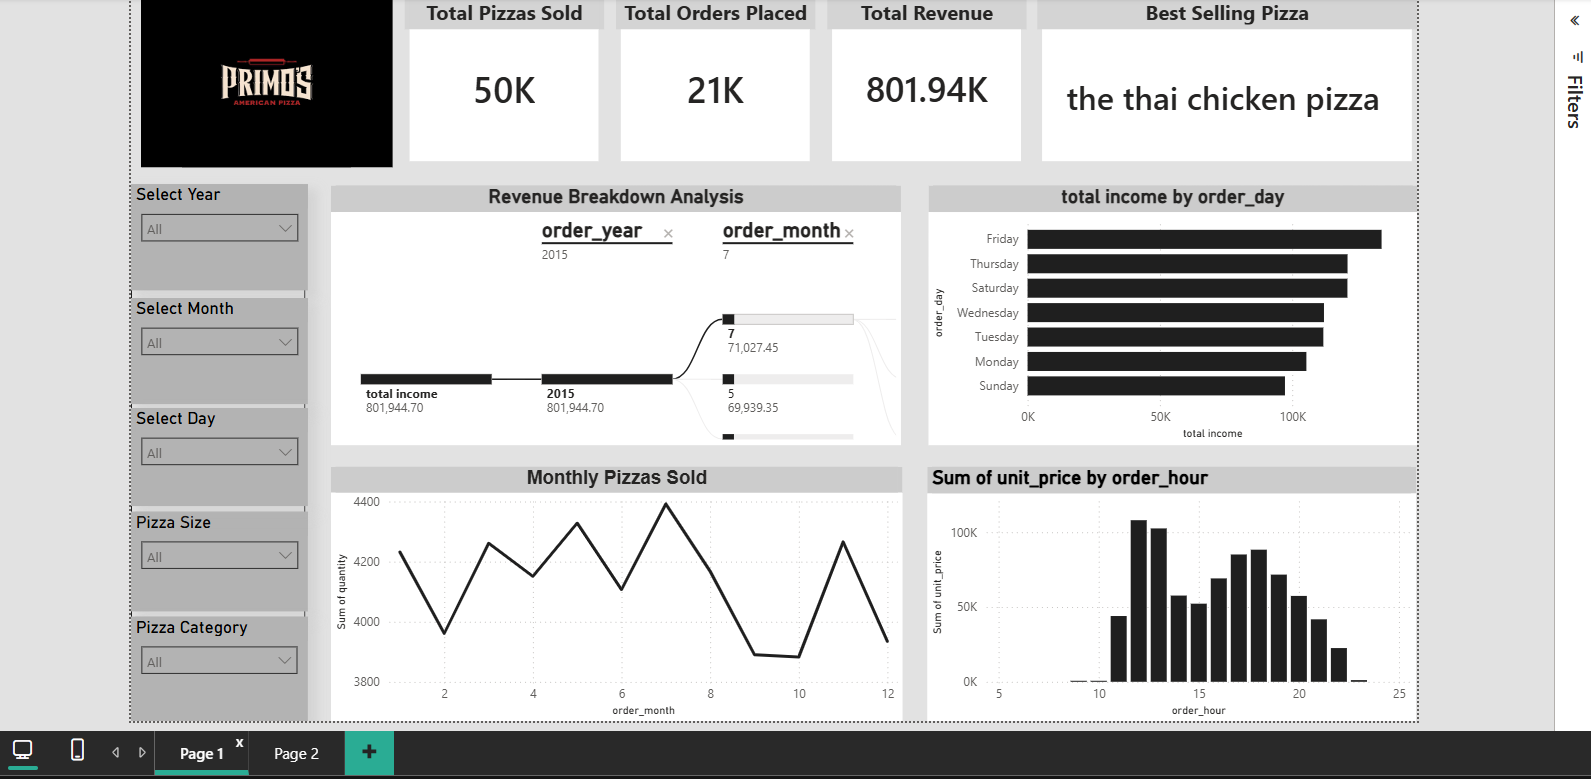

The dashboard page shown, as its layout file describes it:
{"tool":"powerbi","page":{"name":"Time-Based Sales Analysis","canvas":[1280,720],"ordinal":0},"visuals":[{"type":"cardVisual","title":"Best Selling Pizza","fields":{"Data":["pizza_sales.top pizza sales"]},"box":[901.4,0,378.4,167.6],"z":0},{"type":"cardVisual","title":"Total Pizzas Sold","fields":{"Data":["pizza_sales.total quantity"]},"box":[273,0,198.6,167.6],"z":1000},{"type":"cardVisual","title":"Total Orders Placed","fields":{"Data":["pizza_sales.total orders"]},"box":[482.4,0,198.6,167.6],"z":2000},{"type":"cardVisual","title":"Total Revenue","fields":{"Data":["pizza_sales.total income"]},"box":[693.2,0,198.6,167.6],"z":3000},{"type":"shape","box":[0,205,173.4,515.6],"z":4000},{"type":"slicer","title":"Select Year","fields":{"Values":["pizza_sales.order_year"]},"box":[0,185.4,176.4,105.5],"z":5000},{"type":"slicer","title":"Pizza Size","fields":{"Values":["pizza_sales.pizza_size"]},"box":[0,511.1,176.4,99.5],"z":6000},{"type":"slicer","title":"Select Month","fields":{"Values":["pizza_sales.order_month"]},"box":[0,298.5,176.4,105.5],"z":7000},{"type":"slicer","title":"Select Day","fields":{"Values":["pizza_sales.order_day"]},"box":[0,408.6,176.4,98],"z":8000},{"type":"slicer","title":"Pizza Category","fields":{"Values":["pizza_sales.pizza_category"]},"box":[0,616.2,175.7,104.1],"z":9000},{"type":"decompositionTreeVisual","title":"Revenue Breakdown Analysis","fields":{"Analyze":["pizza_sales.total income"],"ExplainBy":["pizza_sales.order_year","pizza_sales.order_month","pizza_sales.order_hour","pizza_sales.order_day"]},"box":[198.6,186.5,567.6,258.1],"z":10000},{"type":"clusteredBarChart","fields":{"Category":["pizza_sales.order_day"],"Y":["pizza_sales.total income"]},"box":[793.2,186.5,486.5,258.1],"z":11000},{"type":"lineChart","title":"Monthly Pizzas Sold","fields":{"Category":["pizza_sales.order_month"],"Y":["Sum(pizza_sales.quantity)"]},"box":[198.6,466.2,568.9,254.1],"z":12000},{"type":"clusteredColumnChart","fields":{"Category":["pizza_sales.order_hour"],"Y":["Sum(pizza_sales.unit_price)"]},"box":[793,466,486,254],"z":13000},{"type":"image","box":[10.6,1.5,250.3,167.3],"z":14000}]}

Visuals, with their boxes on the page's 1280x720 design canvas (x1, y1, x2, y2). These are canvas units, not pixel positions in the 1591x779 screenshot, which may show the page scaled, cropped or inside an application window:
"Best Selling Pizza" cardVisual: (x1=901, y1=0, x2=1280, y2=168)
"Total Pizzas Sold" cardVisual: (x1=273, y1=0, x2=472, y2=168)
"Total Orders Placed" cardVisual: (x1=482, y1=0, x2=681, y2=168)
"Total Revenue" cardVisual: (x1=693, y1=0, x2=892, y2=168)
shape: (x1=0, y1=205, x2=173, y2=721)
"Select Year" slicer: (x1=0, y1=185, x2=176, y2=291)
"Pizza Size" slicer: (x1=0, y1=511, x2=176, y2=611)
"Select Month" slicer: (x1=0, y1=298, x2=176, y2=404)
"Select Day" slicer: (x1=0, y1=409, x2=176, y2=507)
"Pizza Category" slicer: (x1=0, y1=616, x2=176, y2=720)
"Revenue Breakdown Analysis" decompositionTreeVisual: (x1=199, y1=186, x2=766, y2=445)
clusteredBarChart - pizza_sales.order_day x pizza_sales.total income: (x1=793, y1=186, x2=1280, y2=445)
"Monthly Pizzas Sold" lineChart: (x1=199, y1=466, x2=768, y2=720)
clusteredColumnChart - pizza_sales.order_hour x Sum(pizza_sales.unit_price): (x1=793, y1=466, x2=1279, y2=720)
image: (x1=11, y1=2, x2=261, y2=169)
